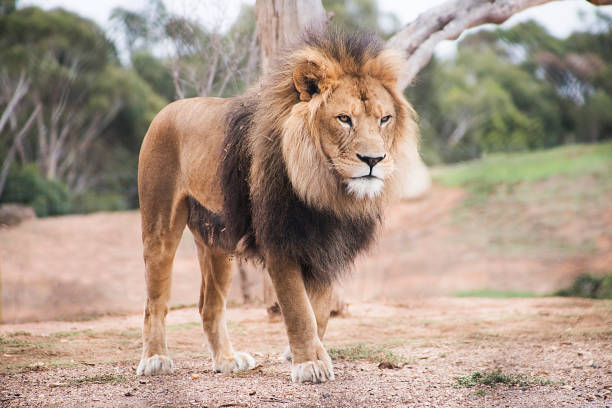lion: (228, 13, 443, 299)
